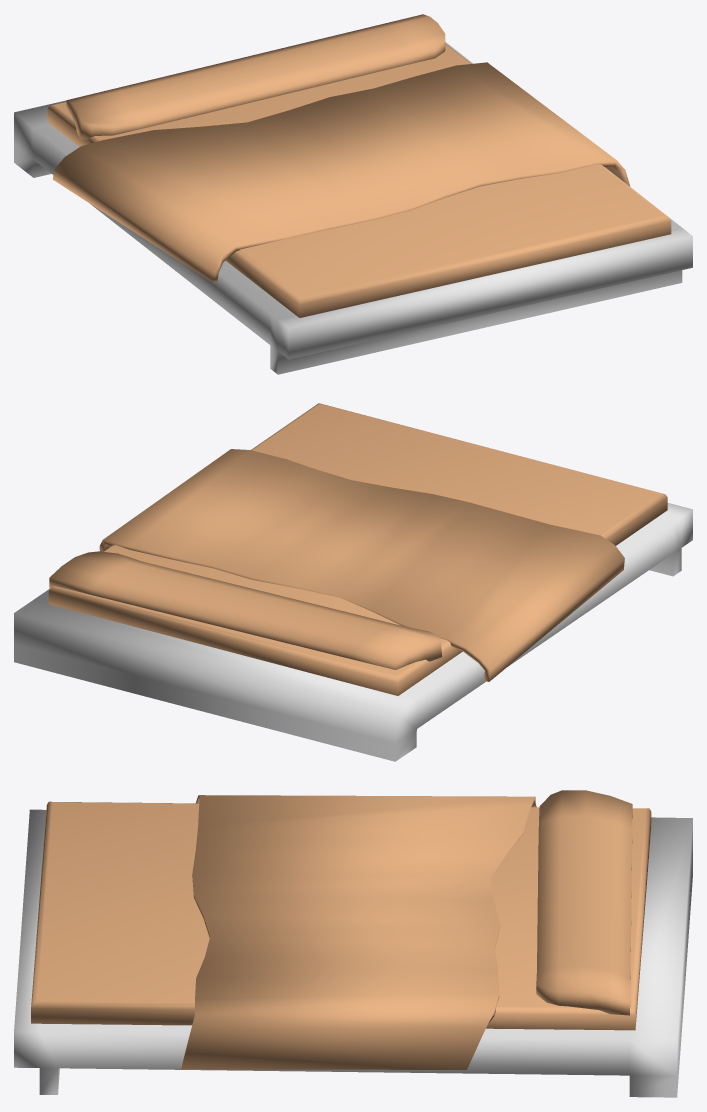
Rendered from SM_Bed.fbx.
3 views of the same model, one above another, from view 1: azimuth 30°, elevation 25°; view 2: azimuth 150°, elevation 25°; view 3: azimuth 270°, elevation 25° (orthographic). The views are drawn at different scales.
Parts seen in each view (by area): view 1: SM_Bed; view 2: SM_Bed; view 3: SM_Bed.
Part boxes in pixels (box(x1,y1,x2,y2)): SM_Bed: box(14, 14, 692, 374); SM_Bed: box(14, 403, 692, 761); SM_Bed: box(14, 790, 692, 1097).
Size of the model in its own units: 461 by 90.34 by 554.
